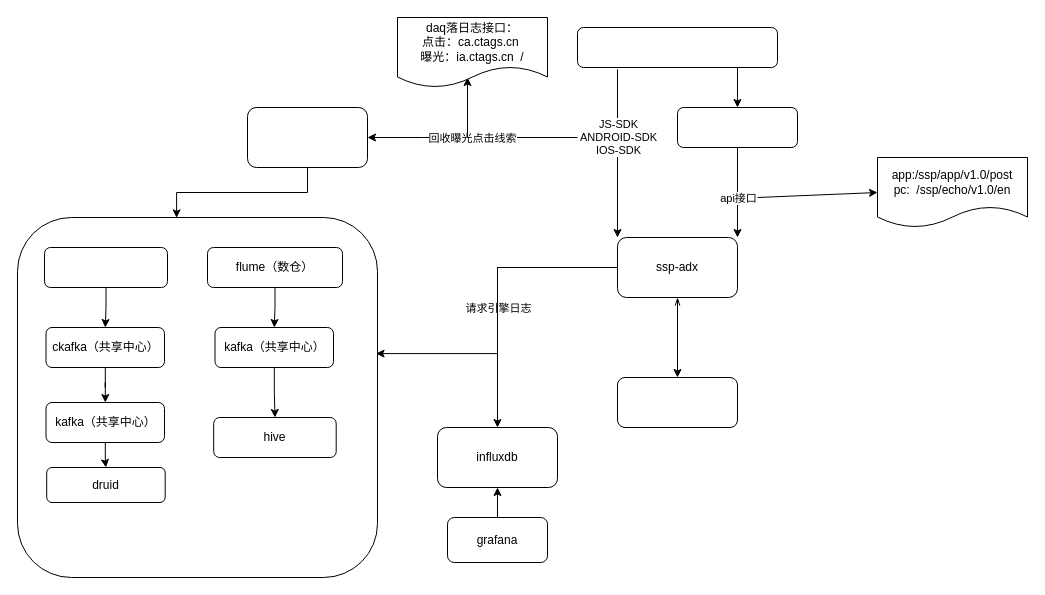
Image size: 1045x595. Some labels were removed from this diagram. Here are the shapes that lost their labels. From the top down, the box of each, then its label:
(576, 26, 778, 68): 端上（易车APP，报价大全）
(246, 106, 368, 168): ssp-daq
(676, 106, 798, 148): 中台研发部（李冲）
(44, 246, 168, 288): logstash（数仓）
(616, 376, 738, 428): adserver(引擎)
